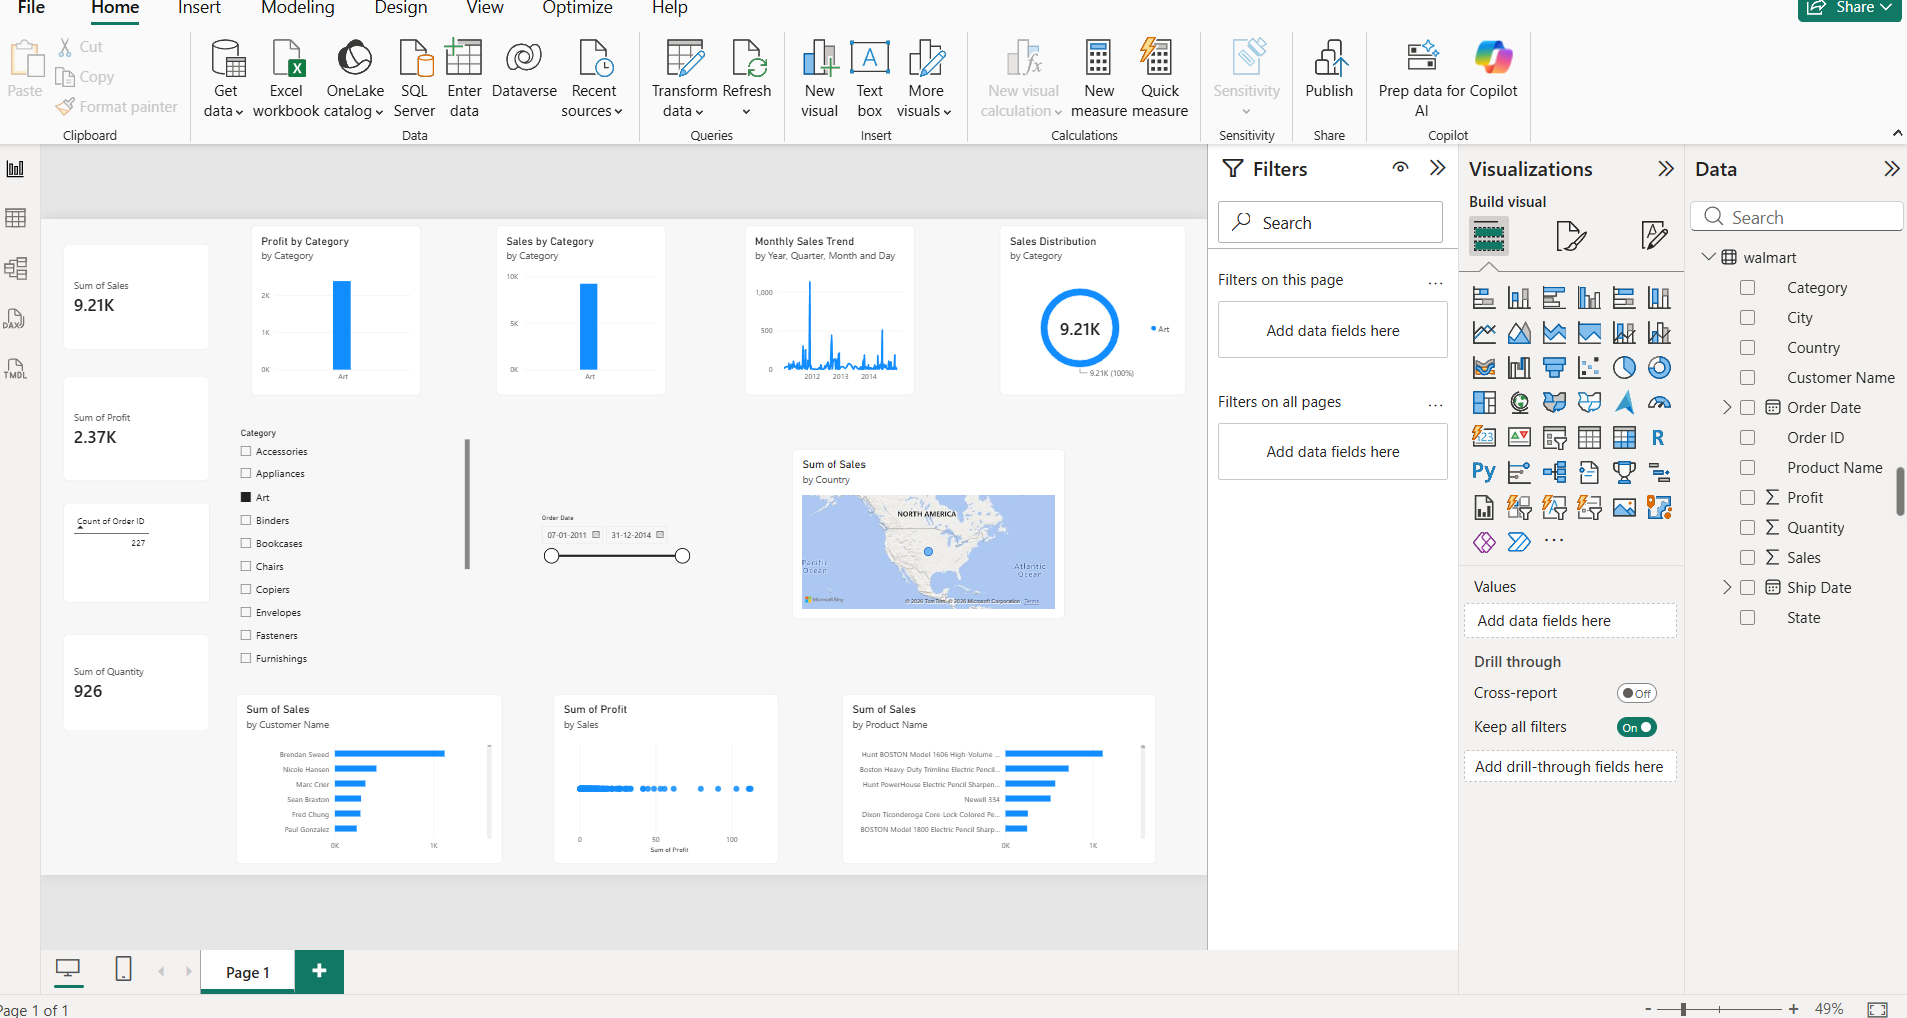

What the dashboard file says about the page in this screenshot:
{"tool":"powerbi","page":{"name":"Page 1","canvas":[1920,1080],"ordinal":0},"visuals":[{"type":"cardVisual","fields":{"Data":["Sum(walmart.Sales)"]},"box":[37,41.2,240.8,175],"z":0},{"type":"cardVisual","fields":{"Data":["Sum(walmart.Profit)"]},"box":[37,259.3,240.8,172.9],"z":1000},{"type":"tableEx","fields":{"Values":["walmart.Order ID"]},"box":[37,467.2,240.8,164.7],"z":2000},{"type":"cardVisual","fields":{"Data":["Sum(walmart.Quantity)"]},"box":[37,683.4,240.8,160.5],"z":3000},{"type":"clusteredColumnChart","fields":{"Category":["walmart.Category"],"Y":["Sum(walmart.Sales)"]},"box":[749.2,10.3,280,280],"z":4000},{"type":"clusteredColumnChart","fields":{"Category":["walmart.Category"],"Y":["Sum(walmart.Profit)"]},"box":[345.8,10.3,280,280],"z":5000},{"type":"map","fields":{"Category":["walmart.Country"],"Size":["Sum(walmart.Sales)"]},"box":[1237.1,378.7,448.7,279.9],"z":6000},{"type":"lineChart","fields":{"Category":["walmart.Order Date.Variation.Date Hierarchy.Year","walmart.Order Date.Variation.Date Hierarchy.Quarter","walmart.Order Date.Variation.Date Hierarchy.Month","walmart.Order Date.Variation.Date Hierarchy.Day"],"Y":["Sum(walmart.Sales)"]},"box":[1158.8,10.3,280,280],"z":7000},{"type":"slicer","fields":{"Values":["walmart.Category"]},"box":[321.1,343.7,384.9,391.1],"z":8000},{"type":"slicer","fields":{"Values":["walmart.Order Date"]},"box":[817.2,485.8,255.2,107],"z":9000},{"type":"clusteredBarChart","fields":{"Category":["walmart.Product Name"],"Y":["Sum(walmart.Sales)"]},"box":[1319.4,782.2,516.6,279.9],"z":10000},{"type":"clusteredBarChart","fields":{"Category":["walmart.Customer Name"],"Y":["Sum(walmart.Sales)"]},"box":[321.1,782.2,438.4,279.9],"z":11000},{"type":"donutChart","fields":{"Category":["walmart.Category"],"Y":["Sum(walmart.Sales)"]},"box":[1578.7,10.3,306.7,279.9],"z":12000},{"type":"scatterChart","fields":{"Category":["walmart.Sales"],"X":["Sum(walmart.Profit)"]},"box":[843.9,782.2,370.5,279.9],"z":13000}]}

Visuals, with their boxes on the page's 1920x1080 design canvas (x1, y1, x2, y2). These are canvas units, not pixel positions in the 1907x1018 screenshot, which may show the page scaled, cropped or inside an application window:
cardVisual - Sum(walmart.Sales): x1=37, y1=41, x2=278, y2=216
cardVisual - Sum(walmart.Profit): x1=37, y1=259, x2=278, y2=432
tableEx - walmart.Order ID: x1=37, y1=467, x2=278, y2=632
cardVisual - Sum(walmart.Quantity): x1=37, y1=683, x2=278, y2=844
clusteredColumnChart - walmart.Category x Sum(walmart.Sales): x1=749, y1=10, x2=1029, y2=290
clusteredColumnChart - walmart.Category x Sum(walmart.Profit): x1=346, y1=10, x2=626, y2=290
map - walmart.Country x Sum(walmart.Sales): x1=1237, y1=379, x2=1686, y2=659
lineChart - walmart.Order Date.Variation.Date Hierarchy.Year x walmart.Order Date.Variation.Date Hierarchy.Quarter: x1=1159, y1=10, x2=1439, y2=290
slicer - walmart.Category: x1=321, y1=344, x2=706, y2=735
slicer - walmart.Order Date: x1=817, y1=486, x2=1072, y2=593
clusteredBarChart - walmart.Product Name x Sum(walmart.Sales): x1=1319, y1=782, x2=1836, y2=1062
clusteredBarChart - walmart.Customer Name x Sum(walmart.Sales): x1=321, y1=782, x2=760, y2=1062
donutChart - walmart.Category x Sum(walmart.Sales): x1=1579, y1=10, x2=1885, y2=290
scatterChart - walmart.Sales x Sum(walmart.Profit): x1=844, y1=782, x2=1214, y2=1062
